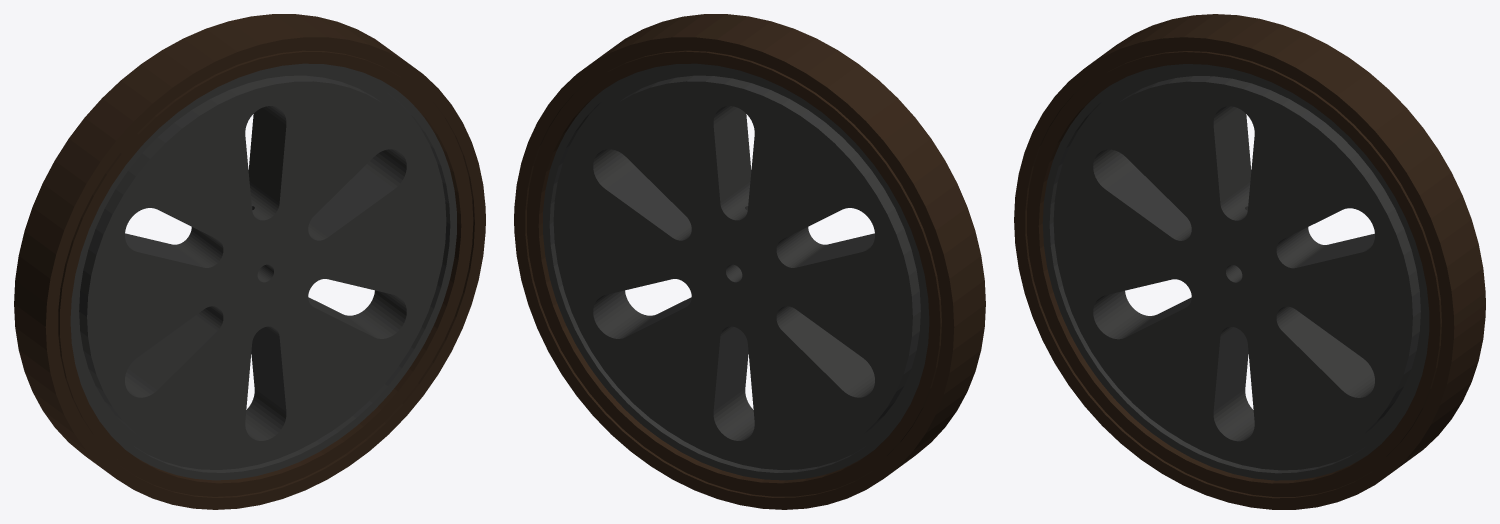
Rendered from wheel.dae.
3 renders of one model, left to right at view 1: azimuth 30°, elevation 25°; view 2: azimuth 150°, elevation 25°; view 3: azimuth 330°, elevation 25°, orthographic.
Visible parts, largest first — view 1: node; view 2: node; view 3: node.
Boxes of the visible parts, x1,y1,x2,y2 form: node: (14,14,485,509); node: (514,14,985,509); node: (1014,14,1485,509).
Size of the model in its own units: 0.16 by 0.1599 by 0.02.
